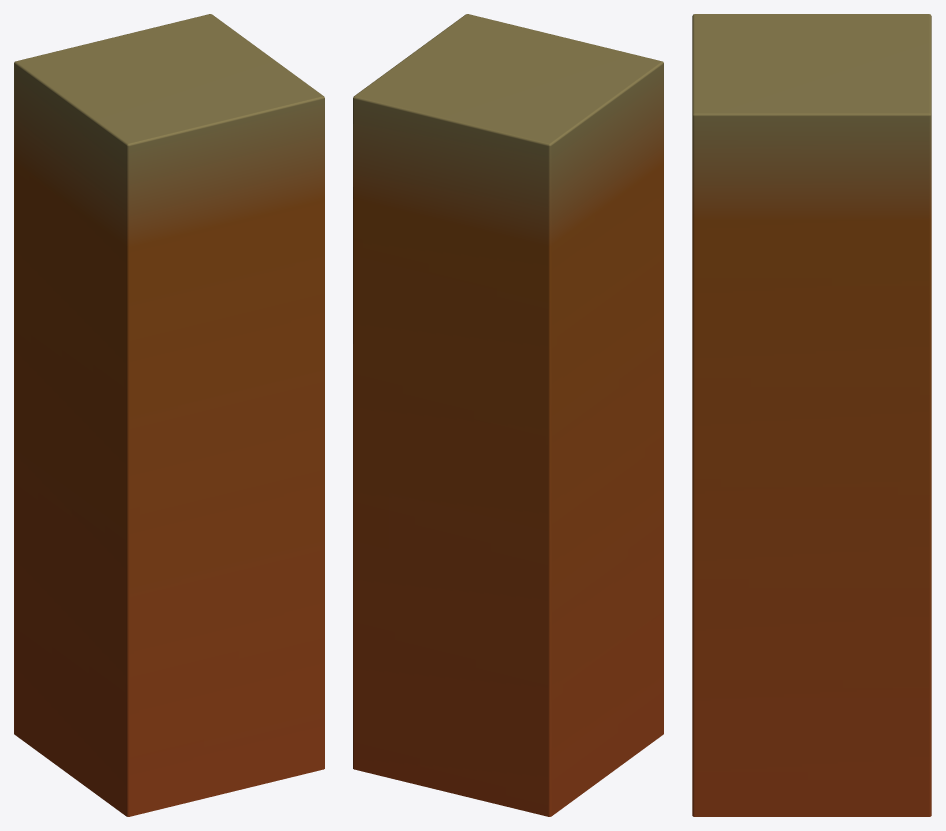
The model's file is ground1.fbx.
3 views of the same model, side by side, from view 1: azimuth 30°, elevation 25°; view 2: azimuth 150°, elevation 25°; view 3: azimuth 270°, elevation 25° (orthographic). The views are drawn at different scales.
Visible parts, largest first — view 1: ground1; view 2: ground1; view 3: ground1.
Part boxes in pixels (bbox=[...]): ground1: bbox=[14, 14, 324, 816]; ground1: bbox=[353, 14, 663, 816]; ground1: bbox=[692, 14, 931, 816].
Size of the model in its own units: 7922 by 25676 by 7922.
